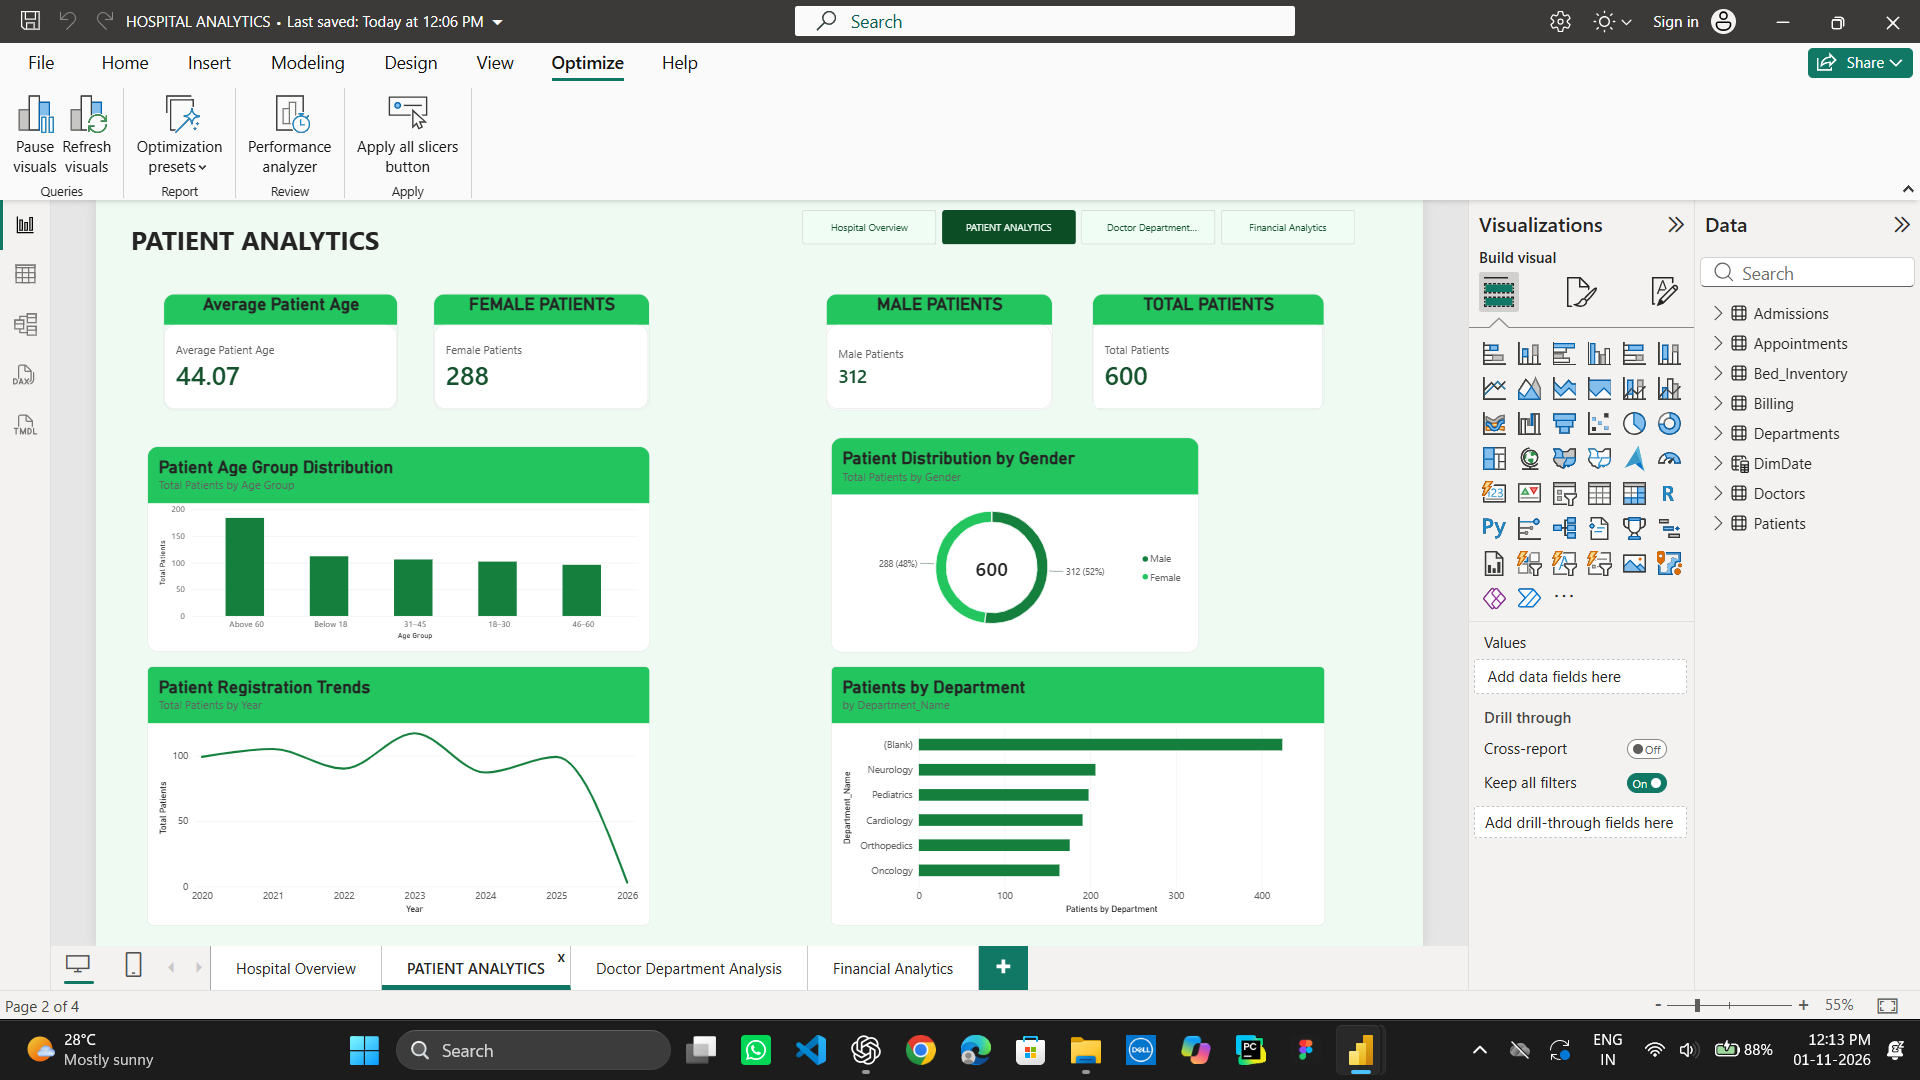

The dashboard page shown, as its layout file describes it:
{"tool":"powerbi","page":{"name":"PATIENT ANALYTICS","canvas":[1920,1080],"ordinal":1},"visuals":[{"type":"cardVisual","title":"Average Patient Age","fields":{"Data":["Patients.Average Patient Age"]},"box":[98.6,136.5,339.4,168.8],"z":0},{"type":"cardVisual","title":"MALE PATIENTS","fields":{"Data":["Patients.Male Patients"]},"box":[1056.1,136.5,328,168.8],"z":1000},{"type":"cardVisual","title":"FEMALE PATIENTS","fields":{"Data":["Patients.Female Patients"]},"box":[489.2,136.5,312.9,168.8],"z":2000},{"type":"cardVisual","title":"TOTAL PATIENTS","fields":{"Data":["Patients.Total Patients"]},"box":[1442.9,136.5,335.6,168.8],"z":3000},{"type":"donutChart","title":"Patient Distribution by Gender","fields":{"Category":["Patients.Gender"],"Y":["Patients.Total Patients"]},"box":[1063.7,343.2,532.8,311],"z":4000},{"type":"clusteredColumnChart","title":"Patient Age Group Distribution","fields":{"Category":["Patients.Age Group"],"Y":["Patients.Total Patients"]},"box":[73.9,356.5,728.1,297.7],"z":5000},{"type":"lineChart","title":"Patient Registration Trends","fields":{"Category":["Patients.Registration_Date.Variation.Date Hierarchy.Year","Patients.Registration_Date.Variation.Date Hierarchy.Quarter","Patients.Registration_Date.Variation.Date Hierarchy.Month","Patients.Registration_Date.Variation.Date Hierarchy.Day"],"Y":["Patients.Total Patients"]},"box":[73.9,675,728.1,375.4],"z":6000},{"type":"clusteredBarChart","fields":{"Category":["Departments.Department_Name"],"Y":["Admissions.Patients by Department"]},"box":[1063.7,675,714.8,375.4],"z":7000},{"type":"textbox","box":[50,32,782,62],"z":8000},{"type":"pageNavigator","box":[1022,14,800,50],"z":8001}]}

Visuals, with their boxes on the page's 1920x1080 design canvas (x1, y1, x2, y2). These are canvas units, not pixel positions in the 1920x1080 screenshot, which may show the page scaled, cropped or inside an application window:
"Average Patient Age" cardVisual: box(99, 136, 438, 305)
"MALE PATIENTS" cardVisual: box(1056, 136, 1384, 305)
"FEMALE PATIENTS" cardVisual: box(489, 136, 802, 305)
"TOTAL PATIENTS" cardVisual: box(1443, 136, 1778, 305)
"Patient Distribution by Gender" donutChart: box(1064, 343, 1596, 654)
"Patient Age Group Distribution" clusteredColumnChart: box(74, 356, 802, 654)
"Patient Registration Trends" lineChart: box(74, 675, 802, 1050)
clusteredBarChart - Departments.Department_Name x Admissions.Patients by Department: box(1064, 675, 1778, 1050)
textbox: box(50, 32, 832, 94)
pageNavigator: box(1022, 14, 1822, 64)
